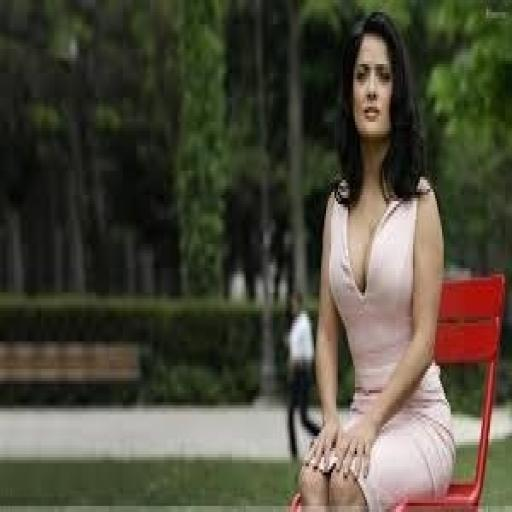sitting: (285, 9, 457, 509)
